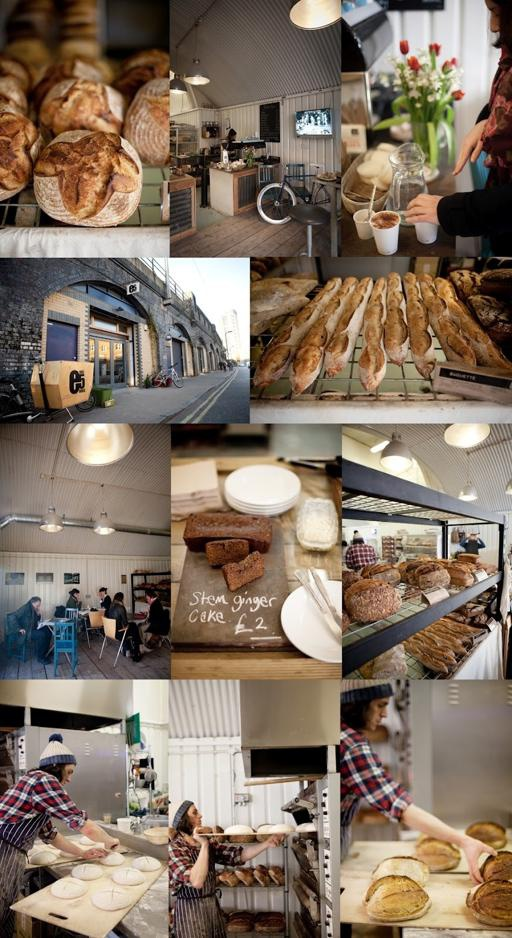non-vehicle: (255, 162, 337, 225), (146, 360, 185, 389)
